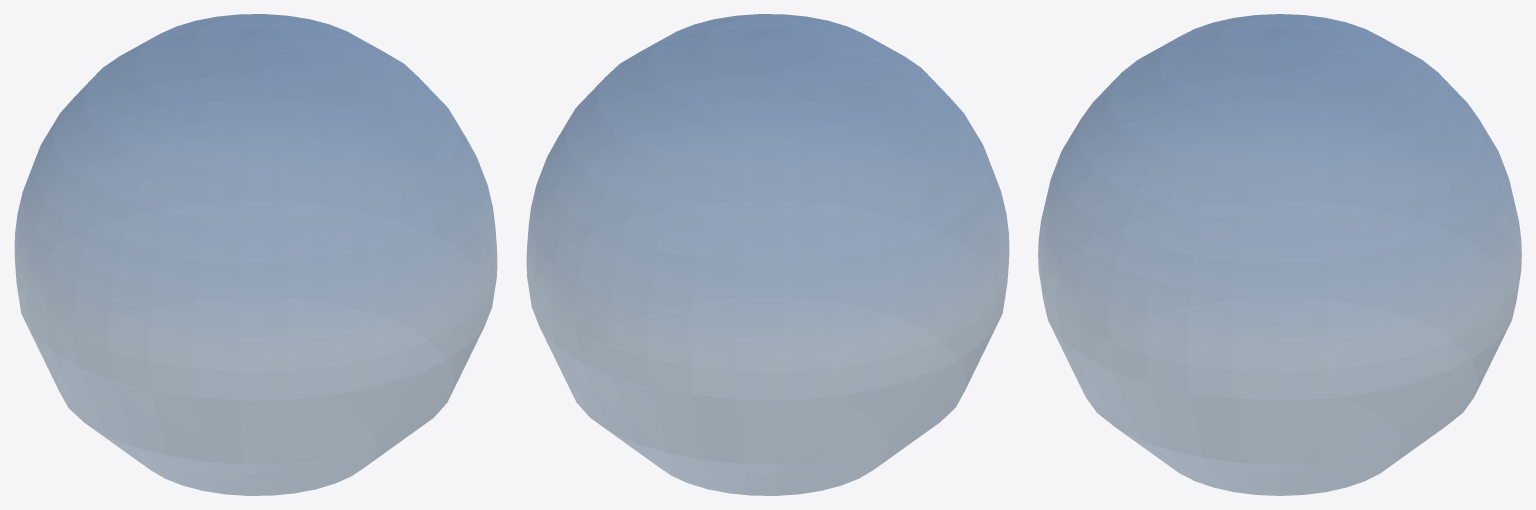
File: CEU.preview.glb
3 renders of one model, left to right at view 1: azimuth 30°, elevation 25°; view 2: azimuth 150°, elevation 25°; view 3: azimuth 270°, elevation 25°, orthographic.
Visible parts, largest first — view 1: obj_e6f0; view 2: obj_e6f0; view 3: obj_e6f0.
Boxes of the visible parts, x1,y1,x2,y2 form: obj_e6f0: (14, 14, 497, 495); obj_e6f0: (526, 14, 1009, 495); obj_e6f0: (1038, 14, 1521, 495).
Size of the model in its own units: 19800 by 19800 by 19800.
Materials: 1 (1 with a texture image).
